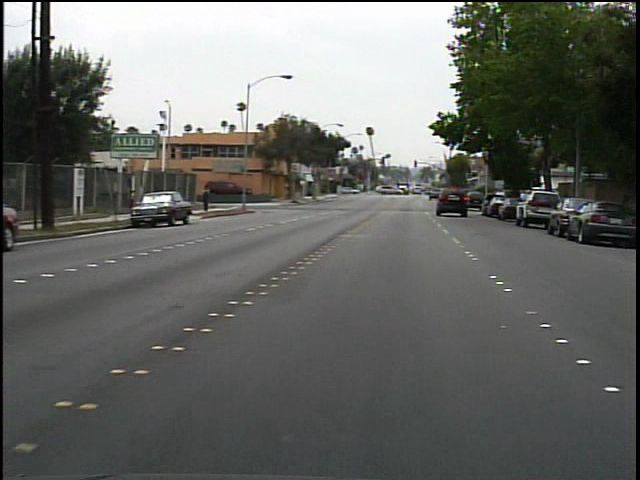person: (204, 182, 219, 215)
